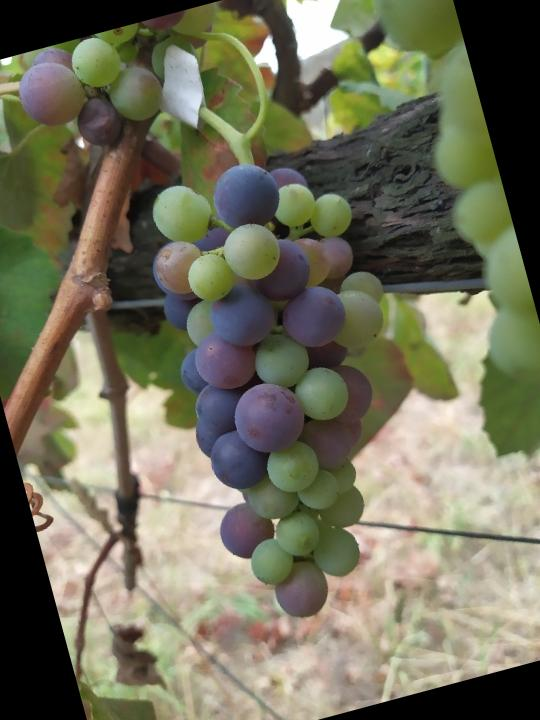grape: (126, 135, 463, 637)
